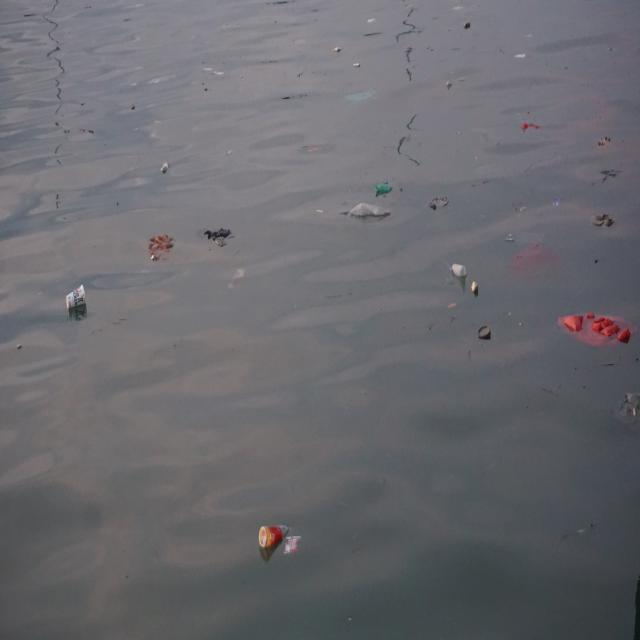Botol Plastik: (258, 510, 293, 559)
Bungkus Makanan: (282, 530, 303, 567)
Bungkus Minuman: (61, 278, 93, 316)
Kantong Plastik: (554, 299, 640, 359), (144, 230, 178, 266), (202, 225, 237, 257)
